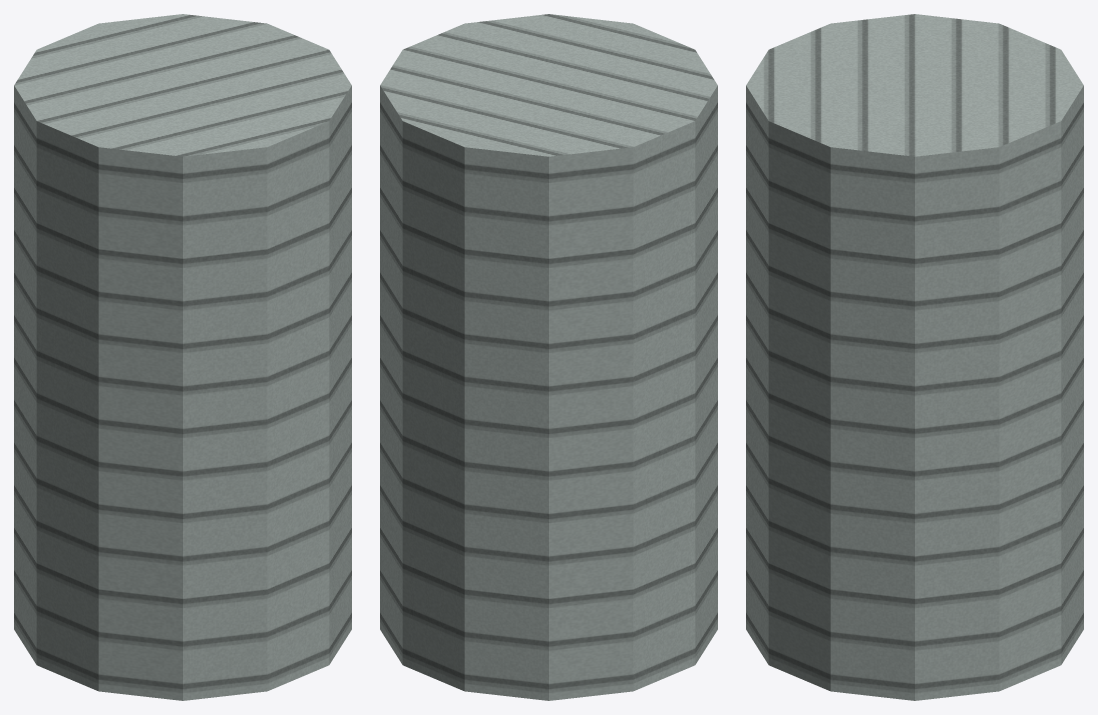
Rendered from farm_fuel_tank_stand.glb.
3 views of the same model, side by side, from view 1: azimuth 30°, elevation 25°; view 2: azimuth 150°, elevation 25°; view 3: azimuth 270°, elevation 25° (orthographic).
Parts seen in each view (by area): view 1: farm_fuel_tank_stand-col; view 2: farm_fuel_tank_stand-col; view 3: farm_fuel_tank_stand-col.
Part boxes in pixels (x1,y1,x2,y2): farm_fuel_tank_stand-col: [14, 14, 351, 700]; farm_fuel_tank_stand-col: [380, 14, 717, 700]; farm_fuel_tank_stand-col: [746, 14, 1083, 700].
Size of the model in its own units: 0.9 by 1.6 by 0.9.
Materials: 1 (1 with a texture image).
